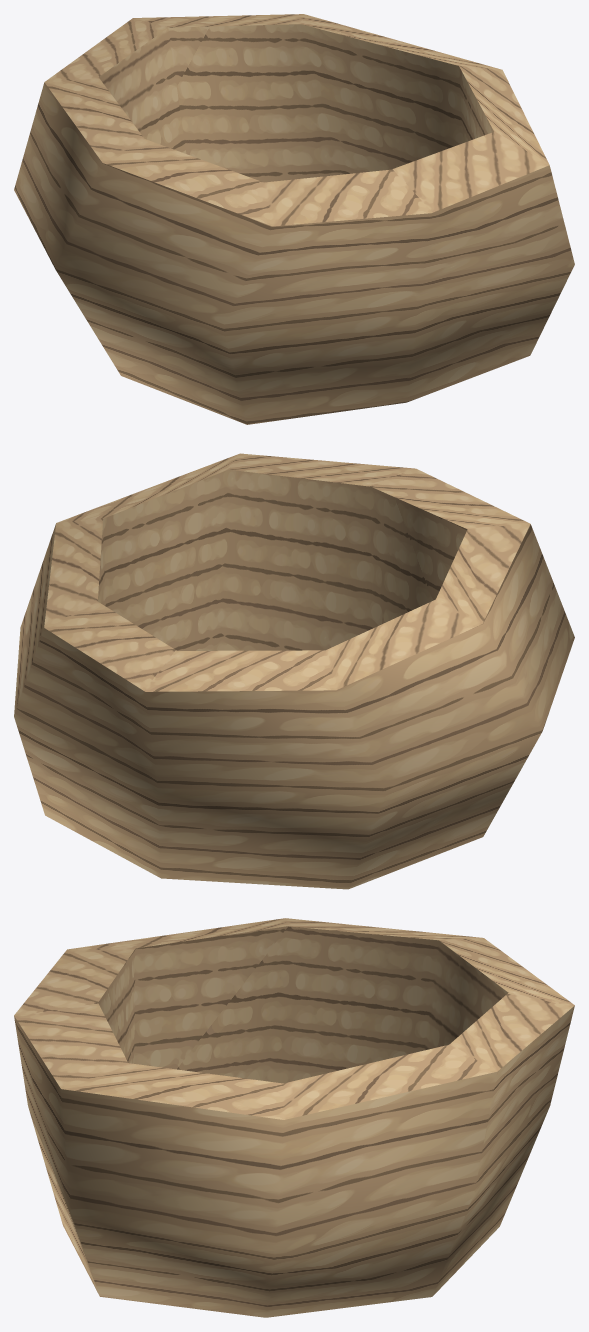
Rendered from SM_PROP_basket_01.fbx.
3 renders of one model, top to bottom at view 1: azimuth 30°, elevation 25°; view 2: azimuth 150°, elevation 25°; view 3: azimuth 270°, elevation 25°, orthographic. The views are drawn at different scales.
Visible parts, largest first — view 1: SM_PROP_basket_01; view 2: SM_PROP_basket_01; view 3: SM_PROP_basket_01.
Part boxes in pixels (bbox=[...]): SM_PROP_basket_01: bbox=[14, 14, 574, 424]; SM_PROP_basket_01: bbox=[14, 453, 574, 889]; SM_PROP_basket_01: bbox=[14, 918, 574, 1317].
Size of the model in its own units: 55.45 by 24.01 by 54.24.
